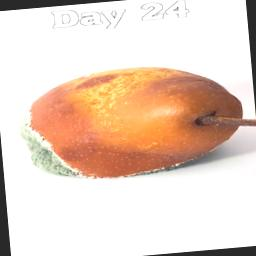Pear Rotten: (5, 53, 256, 186)
